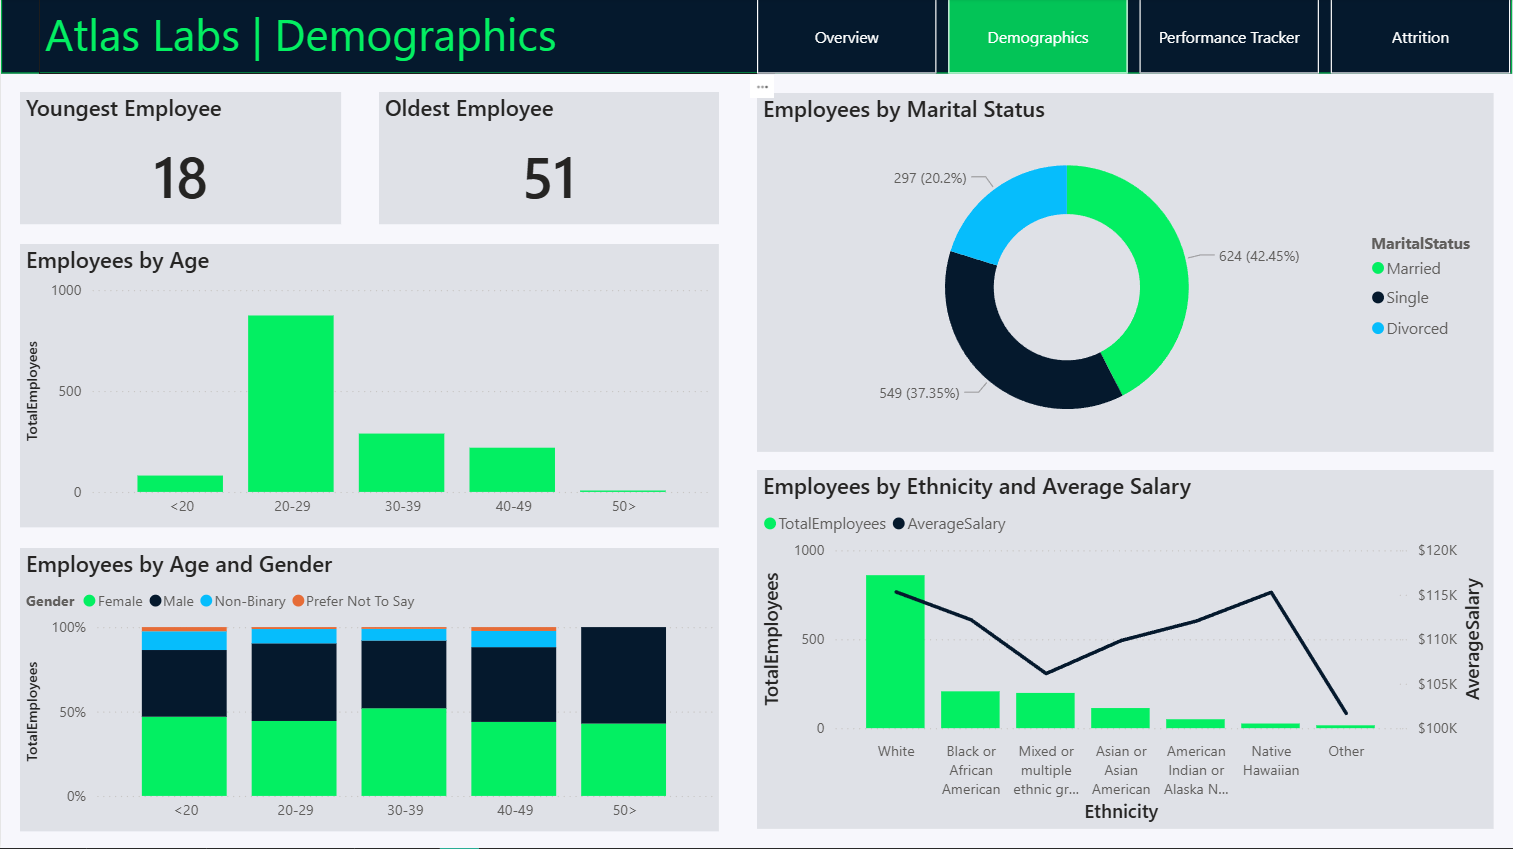

This screenshot's page, from the dashboard's own definition file:
{"tool":"powerbi","page":{"name":"Demographics","canvas":[1280,720],"ordinal":1},"visuals":[{"type":"cardVisual","title":"Youngest Employee","fields":{"Data":["Min(Dim_Employee.Age)"]},"box":[16,80,272,112],"z":0},{"type":"cardVisual","title":"Oldest Employee","fields":{"Data":["Max(Dim_Employee.Age)"]},"box":[320,80,288,112],"z":1000},{"type":"clusteredColumnChart","title":"Employees by Age","fields":{"Category":["Dim_Employee.AgeBins"],"Y":["_Measures.TotalEmployees"]},"box":[16.4,208,592,240],"z":2000},{"type":"hundredPercentStackedColumnChart","title":"Employees by Age and Gender","fields":{"Category":["Dim_Employee.AgeBins"],"Y":["_Measures.TotalEmployees"],"Series":["Dim_Employee.Gender"]},"box":[16.4,465.8,592,240],"z":3000},{"type":"donutChart","title":"Employees by Marital Status","fields":{"Category":["Dim_Employee.MaritalStatus"],"Y":["_Measures.TotalEmployees"]},"box":[640,80.2,624,304],"z":4000},{"type":"lineStackedColumnComboChart","title":"Employees by Ethnicity and Average Salary","fields":{"Category":["Dim_Employee.Ethnicity"],"Y":["_Measures.TotalEmployees"],"Y2":["_Measures.AverageSalary"]},"box":[640,400.2,624,304],"z":5000},{"type":"shape","box":[0,0,1280,64],"z":6000},{"type":"textbox","box":[32,0,624,64],"z":7000},{"type":"pageNavigator","box":[640,0,640,64],"z":8000}]}

Visuals, with their boxes in screenshot pixels (x1, y1, x2, y2), scaled from the page's 1280x720 canvas onto the 1513x849 screenshot:
"Youngest Employee" cardVisual: 19, 94, 340, 226
"Oldest Employee" cardVisual: 378, 94, 719, 226
"Employees by Age" clusteredColumnChart: 19, 245, 719, 528
"Employees by Age and Gender" hundredPercentStackedColumnChart: 19, 549, 719, 832
"Employees by Marital Status" donutChart: 756, 95, 1494, 453
"Employees by Ethnicity and Average Salary" lineStackedColumnComboChart: 756, 472, 1494, 830
shape: 0, 0, 1512, 75
textbox: 38, 0, 775, 75
pageNavigator: 756, 0, 1512, 75
